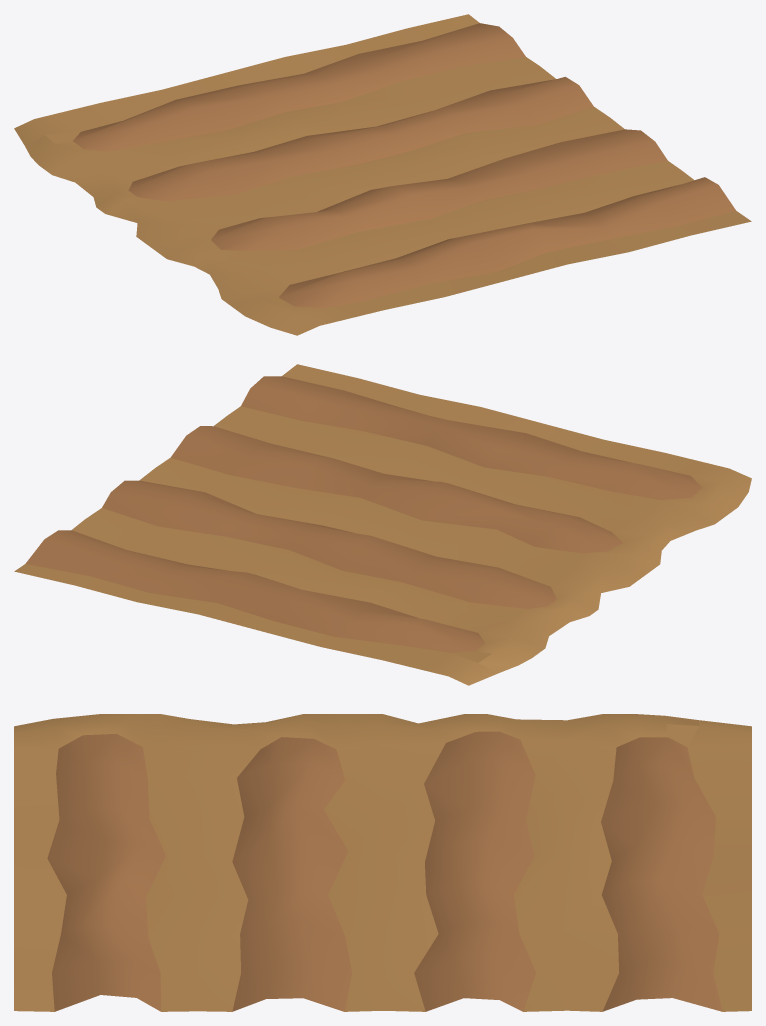
The model's file is Building_model_0_Fieldbackedge001.fbx.
3 renders of one model, top to bottom at view 1: azimuth 30°, elevation 25°; view 2: azimuth 150°, elevation 25°; view 3: azimuth 270°, elevation 25°, orthographic. The views are drawn at different scales.
Visible parts, largest first — view 1: Building_model_0_Fieldbackedge001; view 2: Building_model_0_Fieldbackedge001; view 3: Building_model_0_Fieldbackedge001.
Part boxes in pixels (<box>): Building_model_0_Fieldbackedge001: <box>14,14,751,335</box>; Building_model_0_Fieldbackedge001: <box>14,364,751,685</box>; Building_model_0_Fieldbackedge001: <box>14,714,751,1011</box>.
Size of the model in its own units: 2.9 by 0.0999 by 3.
